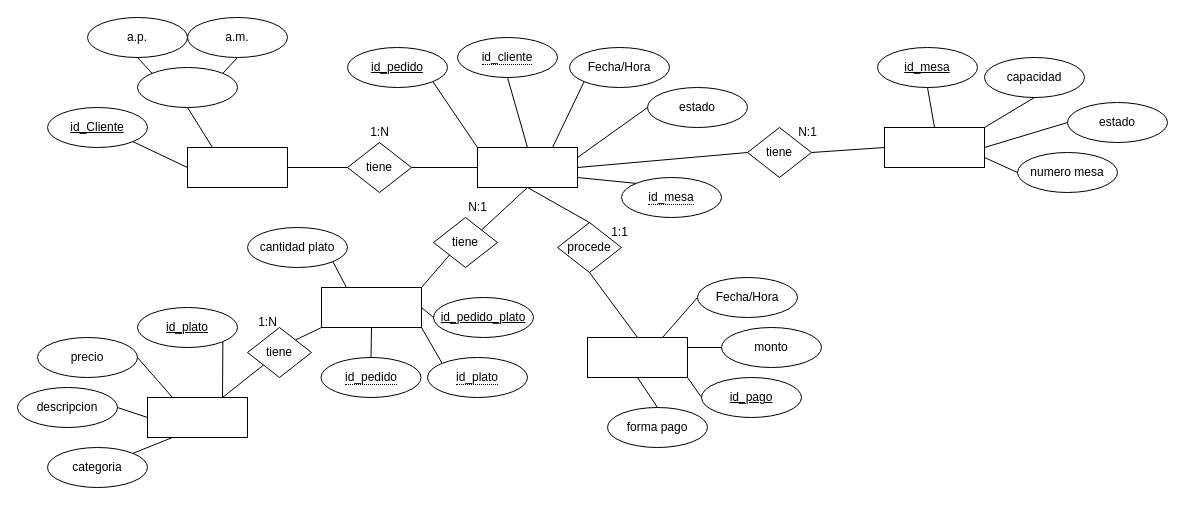
The diagram is 1185 pixels wide and 505 high, and some of its shapes have lost their labels. The shapes that lost their labels are listed below. From the top down, each one's centre as x and y in pixels, then its label:
(x=187, y=87): nombre
(x=237, y=167): Cliente
(x=527, y=167): Pedido
(x=934, y=147): mesa
(x=371, y=307): pedido_plato
(x=637, y=357): Pago
(x=197, y=417): Plato
